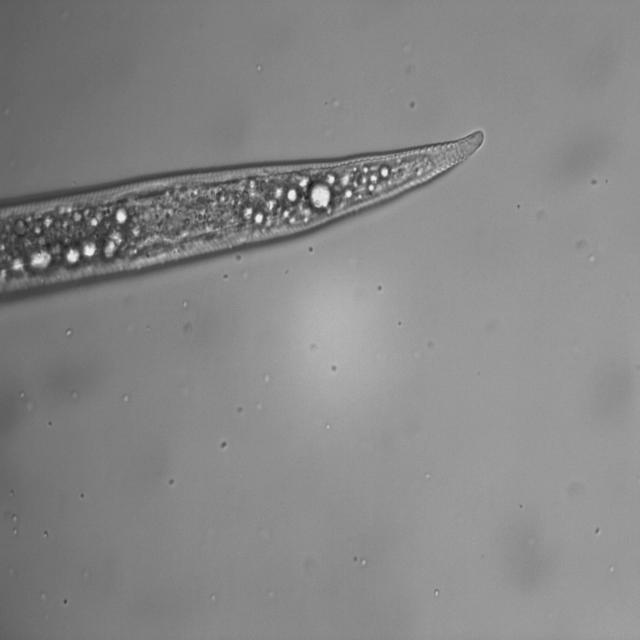Radopholus: (0, 114, 502, 340)
